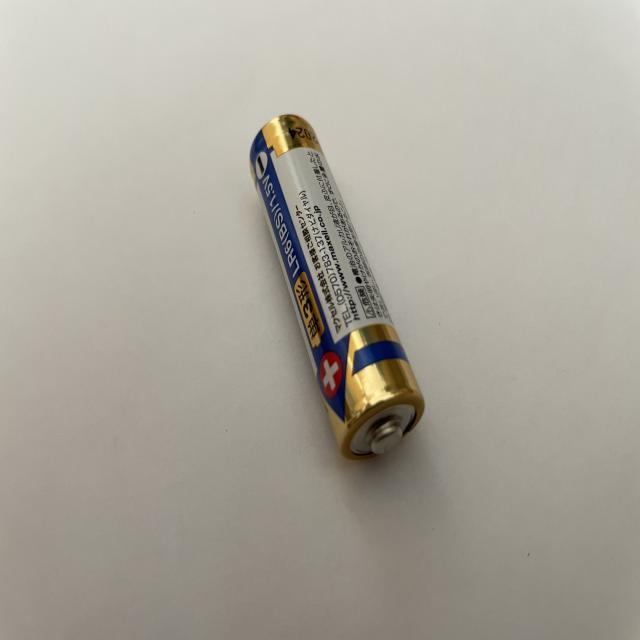hazardous waste: (248, 112, 426, 466)
